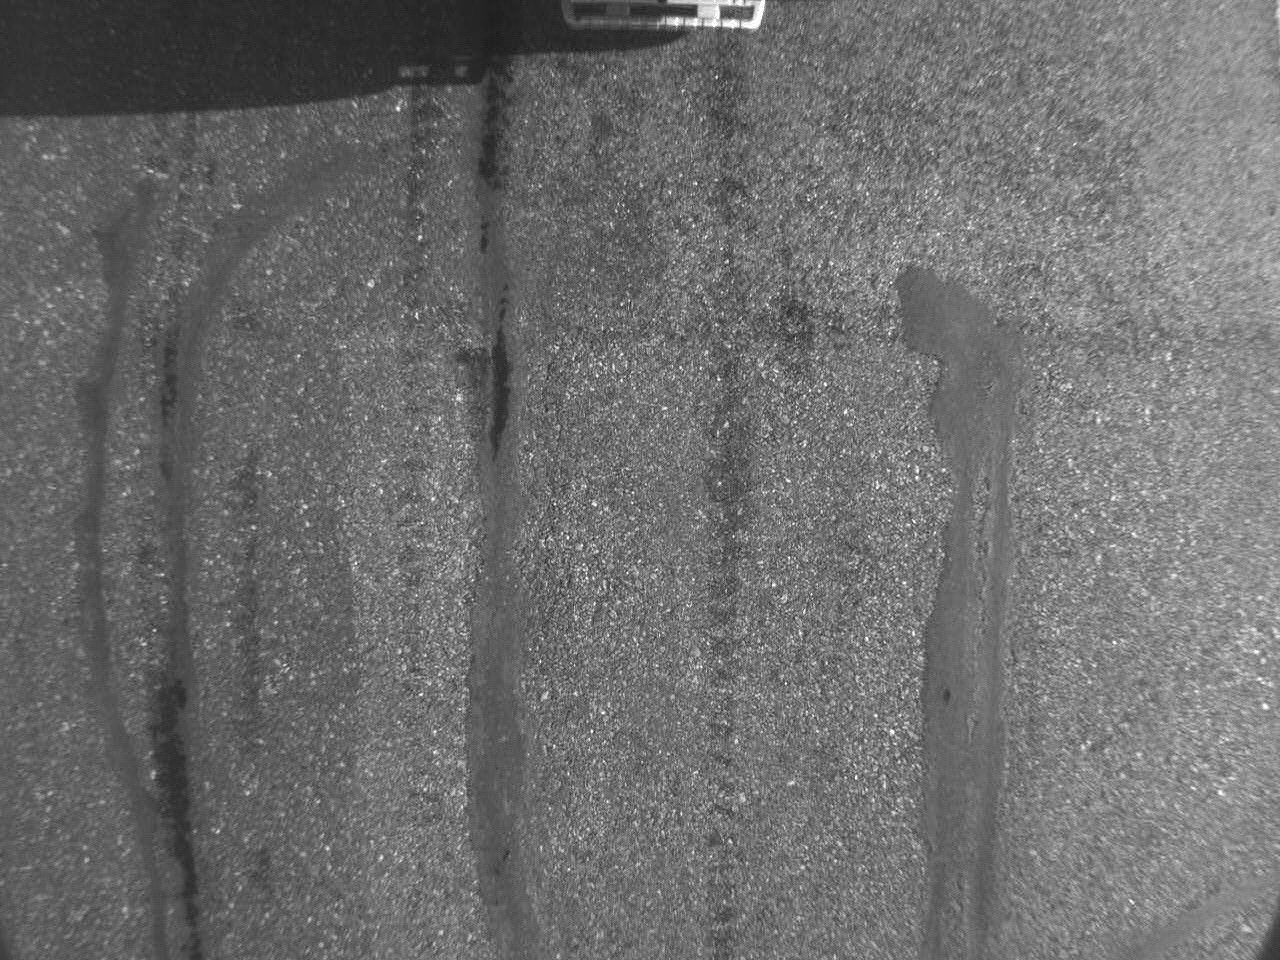sealed: (894, 262, 1022, 946), (462, 14, 550, 938)
